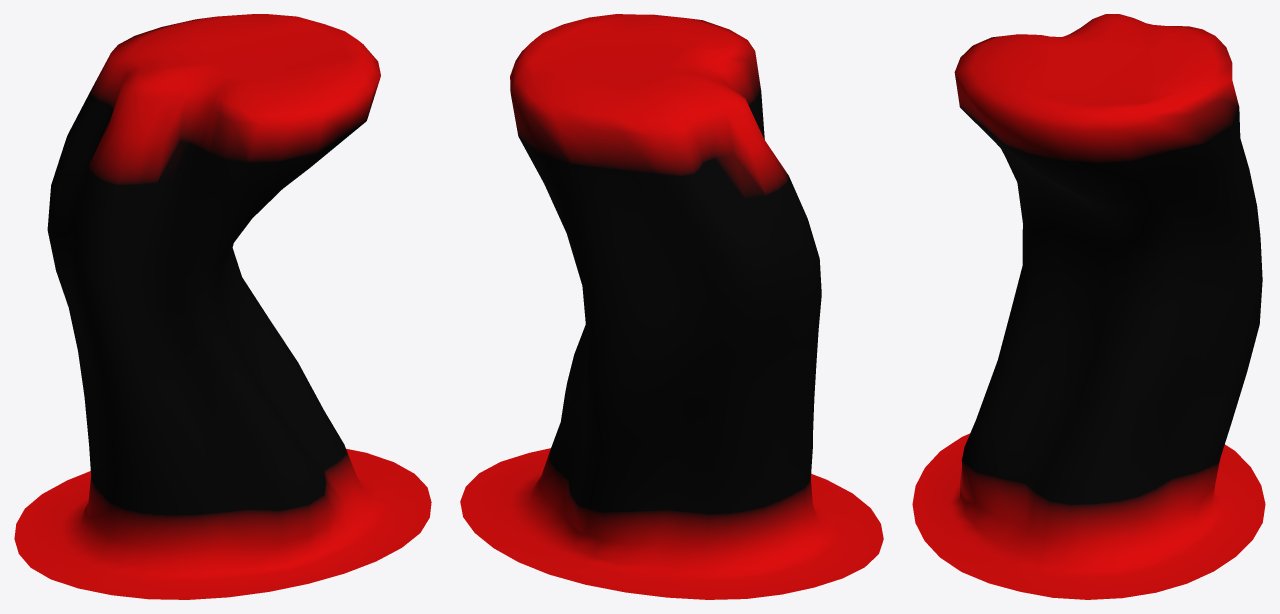
The model's file is GroundObject03C.fbx.
The picture shows the model from 3 angles, left to right: view 1: azimuth 30°, elevation 25°; view 2: azimuth 150°, elevation 25°; view 3: azimuth 270°, elevation 25°; orthographic projection.
Parts seen in each view (by area): view 1: GroundObject03C; view 2: GroundObject03C; view 3: GroundObject03C.
Part boxes in pixels (box(x1,y1,x2,y2)): GroundObject03C: box(14, 14, 431, 599); GroundObject03C: box(460, 14, 883, 599); GroundObject03C: box(912, 14, 1265, 599).
Bounding box in the file's own units: 1.76 × 1.99 × 1.37.
